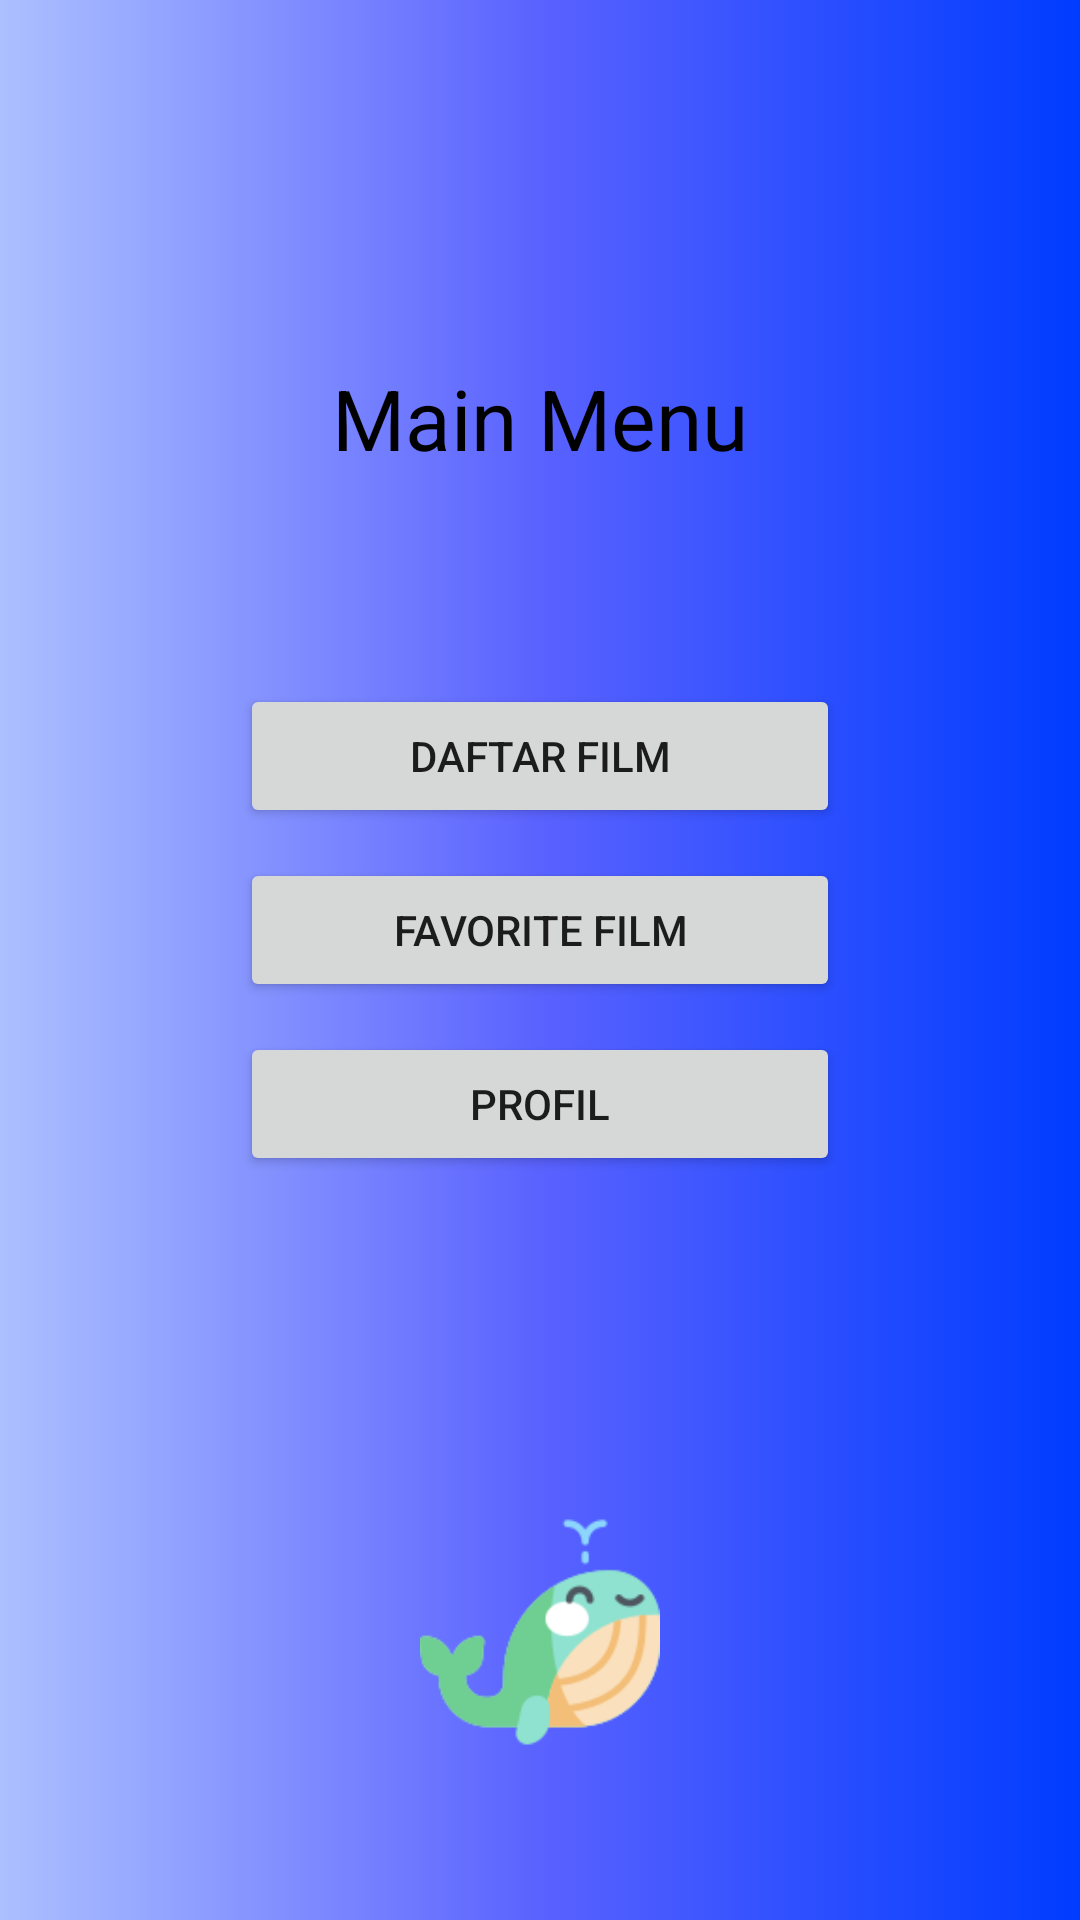

Named icons in this screenshot (1080px x 1920px) and their centers, [x,y]:
paus: [540,1632]
